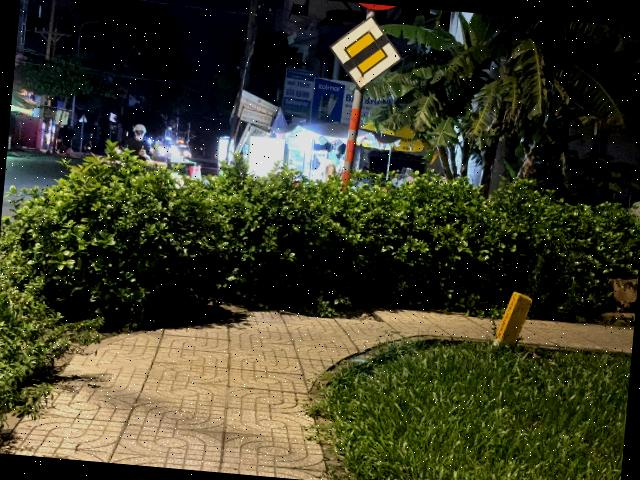het-duong-uu-tien: (324, 12, 406, 94)
